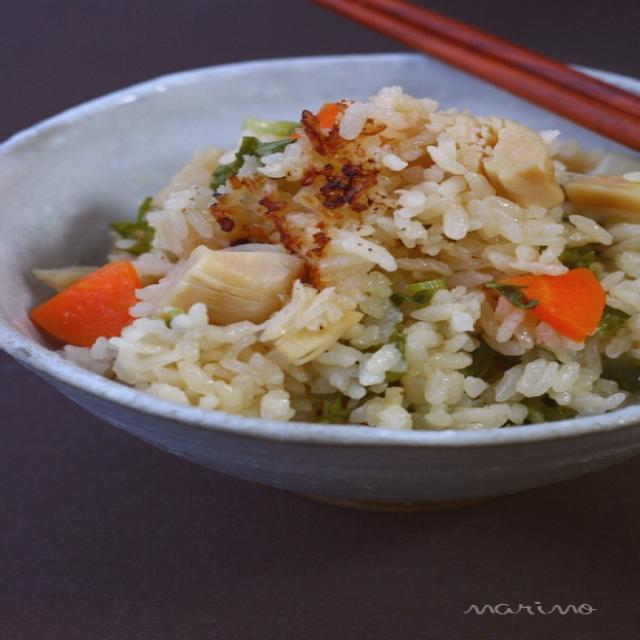rice: (159, 110, 559, 384)
